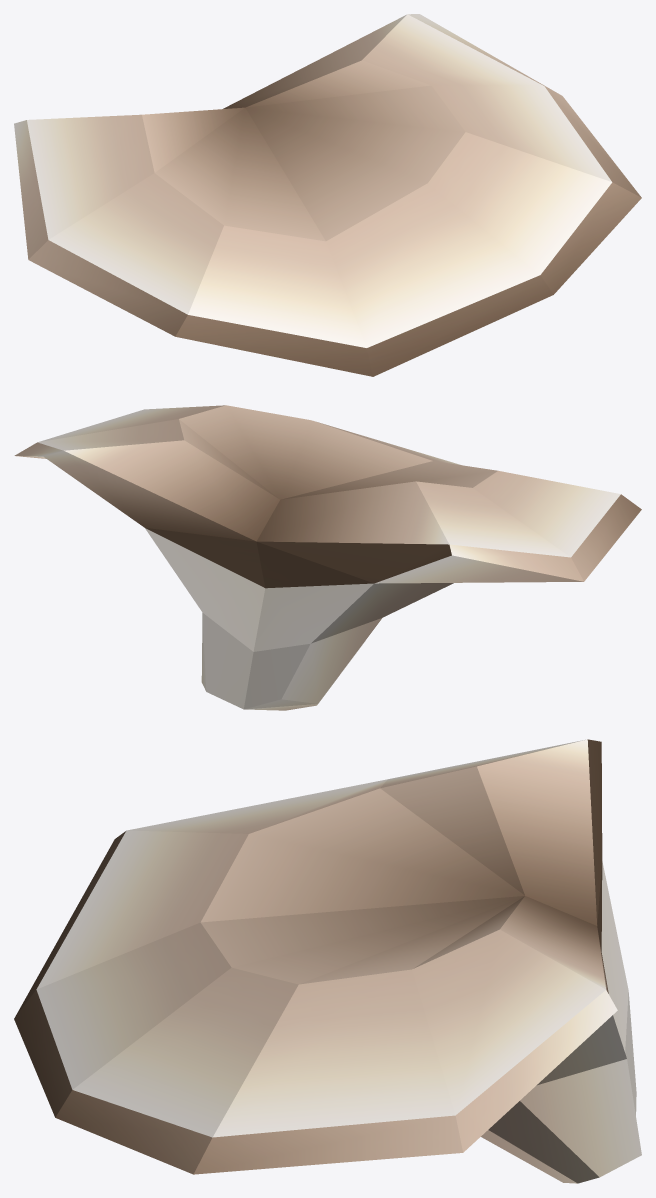
Rendered from Tree_Mushroom-01.fbx.
The picture shows the model from 3 angles, top to bottom: view 1: azimuth 30°, elevation 25°; view 2: azimuth 150°, elevation 25°; view 3: azimuth 270°, elevation 25°; orthographic projection. The views are drawn at different scales.
Parts seen in each view (by area): view 1: Tree_Mushroom-01; view 2: Tree_Mushroom-01; view 3: Tree_Mushroom-01.
Boxes of the visible parts, left/top/right/bottom form: Tree_Mushroom-01: left=14, top=14, right=641, bottom=376; Tree_Mushroom-01: left=14, top=405, right=641, bottom=710; Tree_Mushroom-01: left=14, top=739, right=641, bottom=1183.
Bounding box in the file's own units: 81.4 × 33.26 × 57.85.
Materials: 1 (1 with a texture image).
